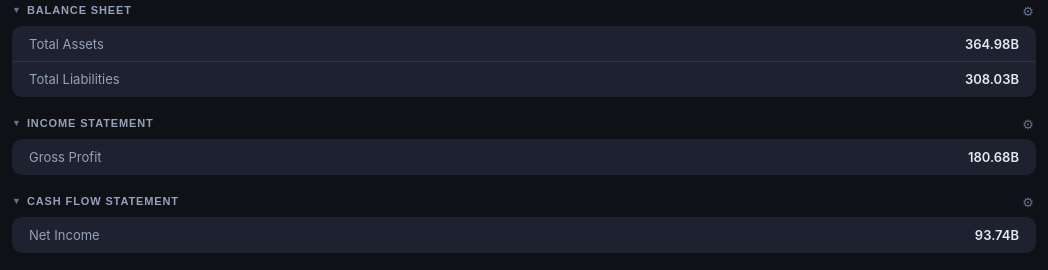
it: ReportedFinancials › opens the filter panel when the settings button is clicked
The image size is (1048, 270).
Click the button named "filter balance sheet".
click(1028, 12)  # box x1=1020 y1=5 x2=1036 y2=18
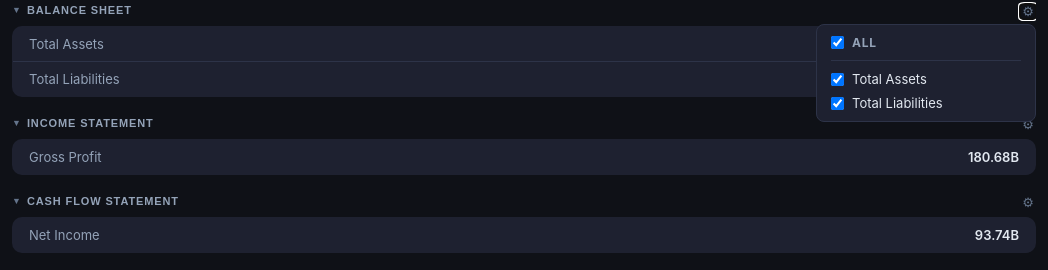
Expected: the checkbox labelled "Total Assets" is shown, x1=831 y1=72 x2=844 y2=86
Expected: the checkbox labelled "Total Liabilities" is shown, x1=831 y1=96 x2=844 y2=110
